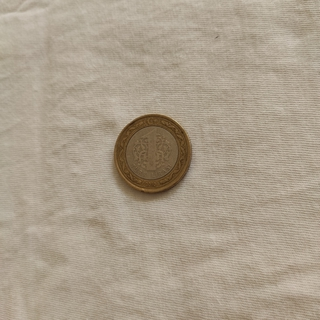1TL: (112, 112, 193, 195)
